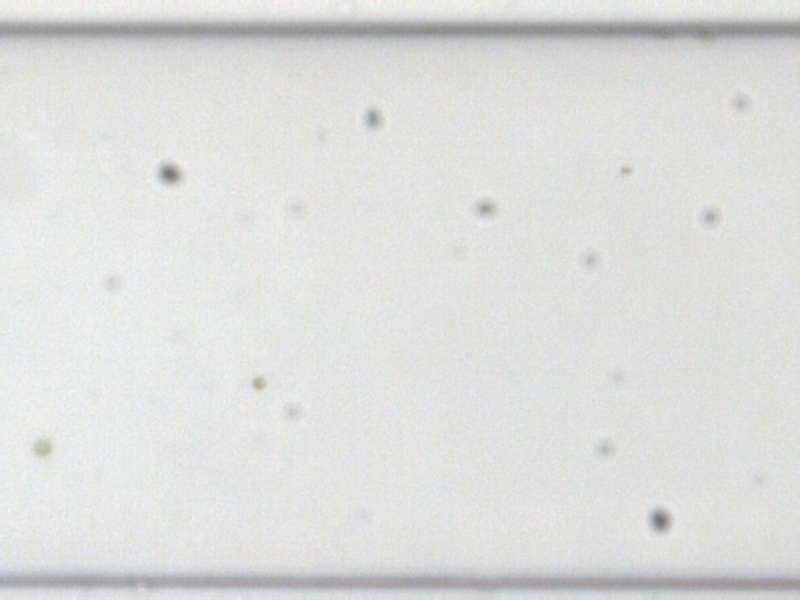Chlorella: (31, 438, 51, 455), (248, 374, 267, 389)
